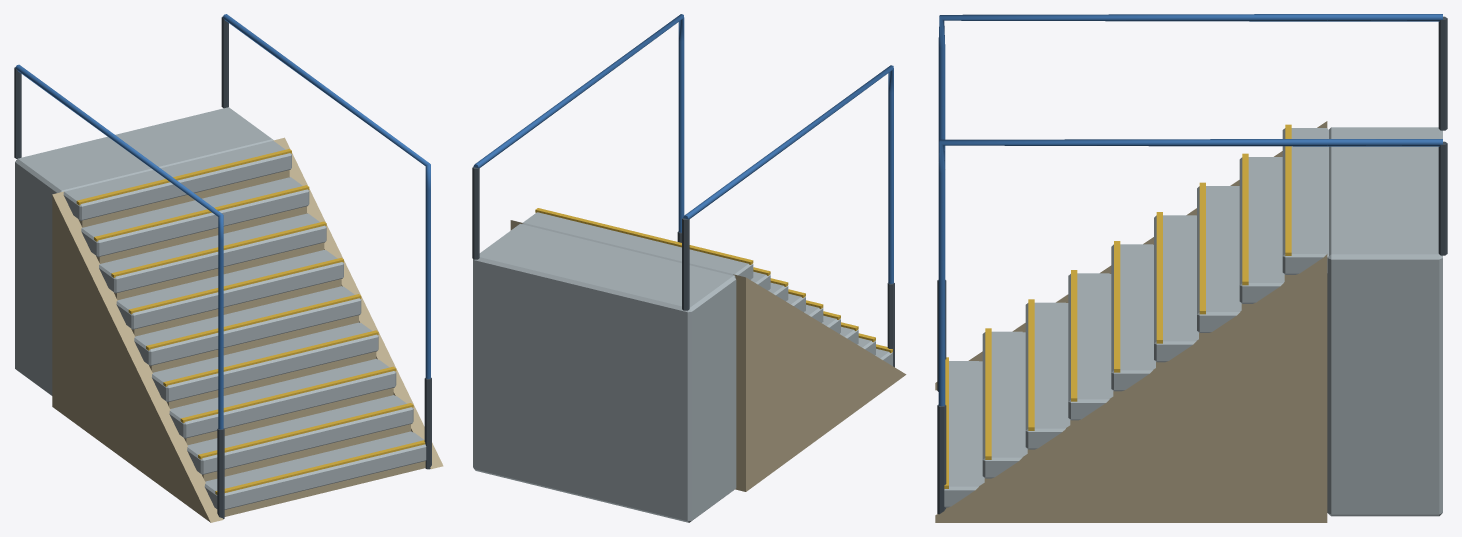
Rendered from stairs_up.fbx.
3 renders of one model, left to right at view 1: azimuth 30°, elevation 25°; view 2: azimuth 150°, elevation 25°; view 3: azimuth 270°, elevation 25°, orthographic. The views are drawn at different scales.
Parts seen in each view (by area): view 1: stairs_up; view 2: stairs_up; view 3: stairs_up.
Part boxes in pixels (left/top/right/bottom): stairs_up: left=14, top=14, right=443, bottom=522; stairs_up: left=472, top=14, right=906, bottom=522; stairs_up: left=935, top=14, right=1447, bottom=522.
Bounding box in the file's own units: 2.58 × 3.23 × 3.99.
